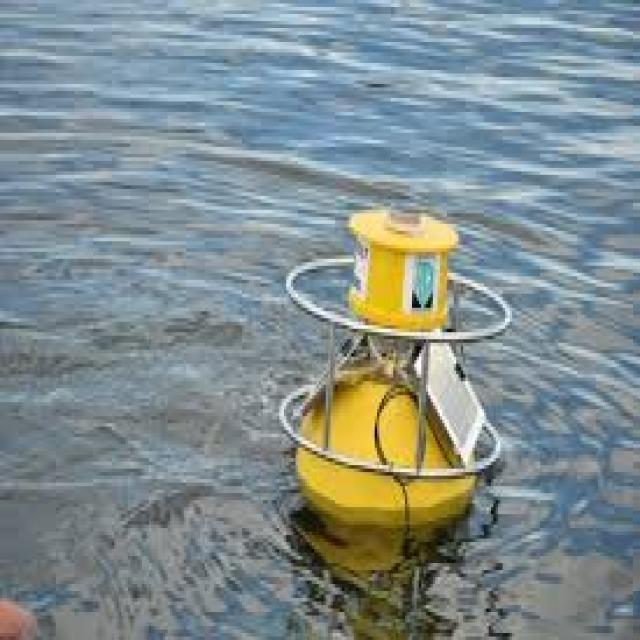buoy: (262, 161, 508, 554)
